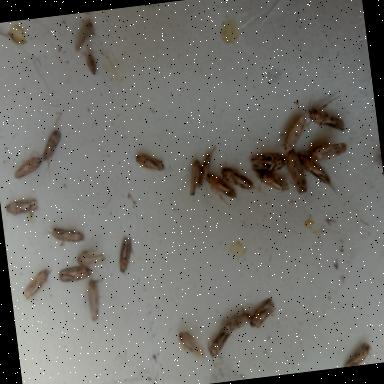pbw: (306, 94, 346, 134), (300, 152, 336, 196), (281, 112, 311, 152), (20, 266, 54, 300), (206, 171, 238, 207), (194, 144, 222, 185), (248, 148, 288, 174), (42, 225, 86, 248), (205, 324, 234, 358), (286, 150, 308, 194), (309, 138, 349, 162), (222, 164, 254, 194), (246, 297, 276, 328), (84, 276, 103, 322), (39, 128, 64, 162), (114, 234, 136, 272), (256, 166, 288, 192), (70, 20, 96, 52), (177, 330, 205, 359), (11, 156, 43, 179), (342, 342, 372, 366), (134, 150, 164, 174), (4, 196, 40, 216), (57, 264, 94, 283), (185, 159, 203, 195), (76, 249, 108, 269), (224, 313, 253, 332), (86, 50, 98, 75)
